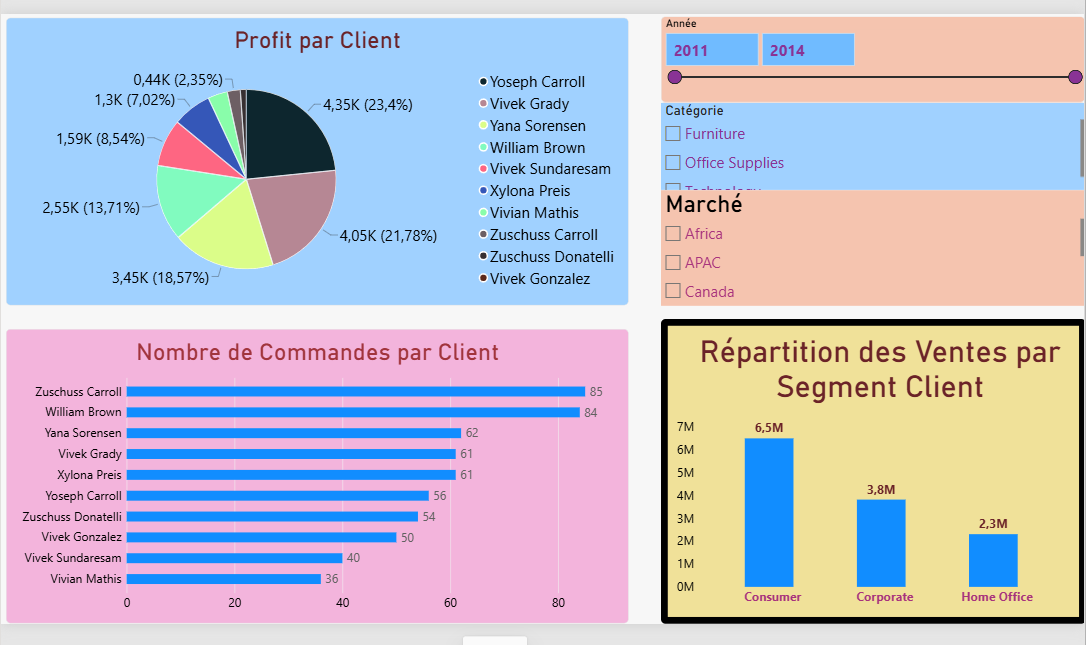

This screenshot's page, from the dashboard's own definition file:
{"tool":"powerbi","page":{"name":"Page 5","canvas":[1920,1080],"ordinal":3},"visuals":[{"type":"columnChart","title":"Répartition des Ventes par Segment Client","fields":{"Category":["public sales.segment"],"Y":["Sum(public sales.sales)"]},"box":[1169.7,540.3,752.6,540.3],"z":0},{"type":"clusteredBarChart","title":"Nombre de Commandes par Client","fields":{"Category":["public sales.customer_name"],"Y":["CountNonNull(public sales.order_id)"]},"box":[9.5,559.2,1103.3,521.3],"z":1},{"type":"pieChart","title":"Profit par Client","fields":{"Category":["public sales.customer_name"],"Y":["Sum(public sales.profit)"]},"box":[9.5,5.7,1103.3,510],"z":2},{"type":"slicer","fields":{"Values":["public sales.year"]},"box":[1168.8,5.3,751.2,151.8],"z":3},{"type":"slicer","fields":{"Values":["public sales.category"]},"box":[1168.8,157.2,751.2,154.5],"z":4},{"type":"slicer","fields":{"Values":["public sales.market"]},"box":[1168.8,311.7,751.2,205.1],"z":5}]}

Visuals, with their boxes on the page's 1920x1080 design canvas (x1, y1, x2, y2). These are canvas units, not pixel positions in the 1087x645 screenshot, which may show the page scaled, cropped or inside an application window:
"Répartition des Ventes par Segment Client" columnChart: region(1170, 540, 1922, 1081)
"Nombre de Commandes par Client" clusteredBarChart: region(10, 559, 1113, 1080)
"Profit par Client" pieChart: region(10, 6, 1113, 516)
slicer - public sales.year: region(1169, 5, 1920, 157)
slicer - public sales.category: region(1169, 157, 1920, 312)
slicer - public sales.market: region(1169, 312, 1920, 517)
